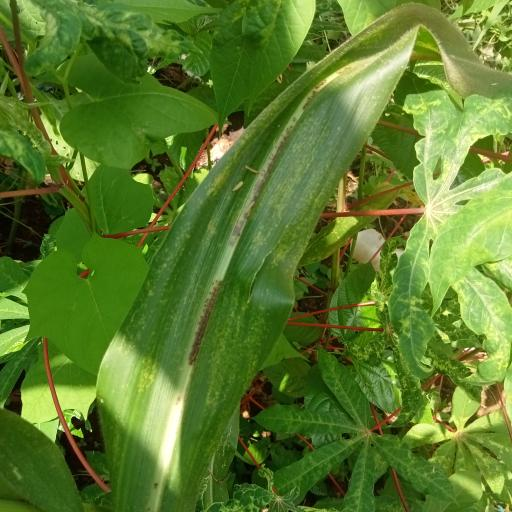Corn_Brown_Spots: (102, 13, 512, 493)
